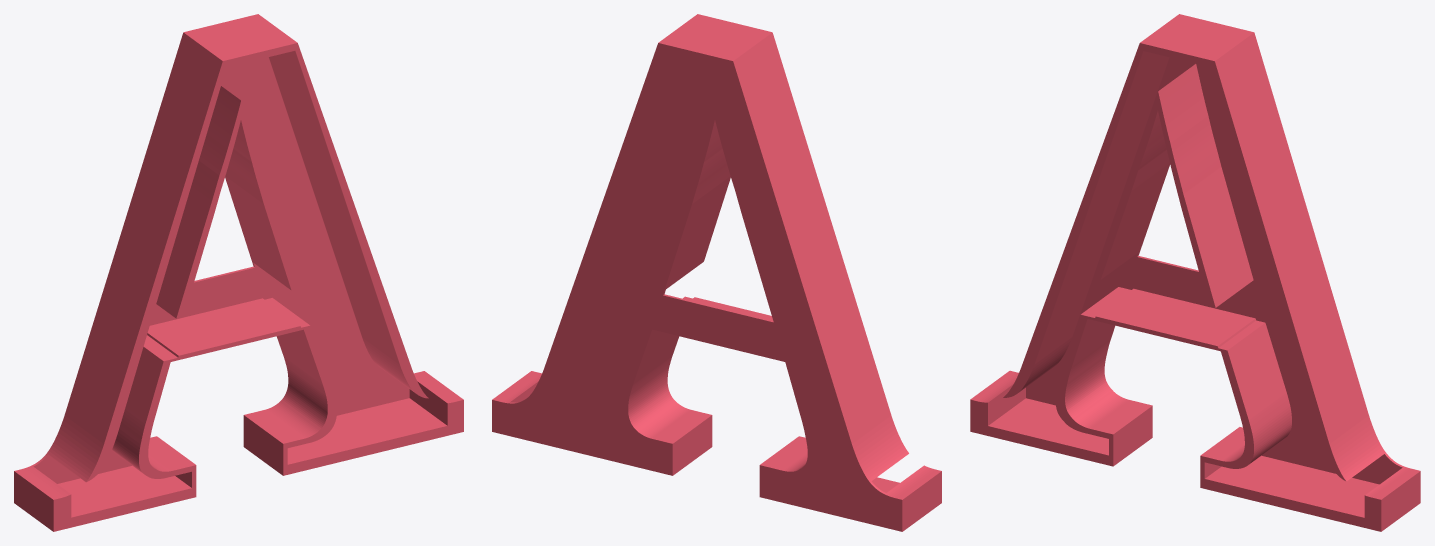
3 renders of one model, left to right at view 1: azimuth 30°, elevation 25°; view 2: azimuth 150°, elevation 25°; view 3: azimuth 330°, elevation 25°, orthographic.
Parts seen in each view (by area): view 1: obj_0; view 2: obj_0; view 3: obj_0.
Boxes of the visible parts, <box> form: obj_0: <box>14,14,463,531</box>; obj_0: <box>492,14,941,531</box>; obj_0: <box>970,14,1420,531</box>.
Bounding box in the file's own units: 0.3 × 0.3 × 0.05.
